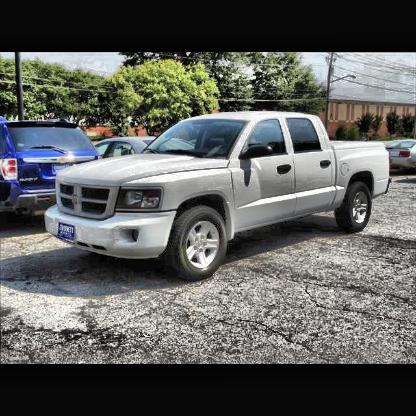Dodge Dakota Crew Cab 2010: (45, 112, 395, 282)
